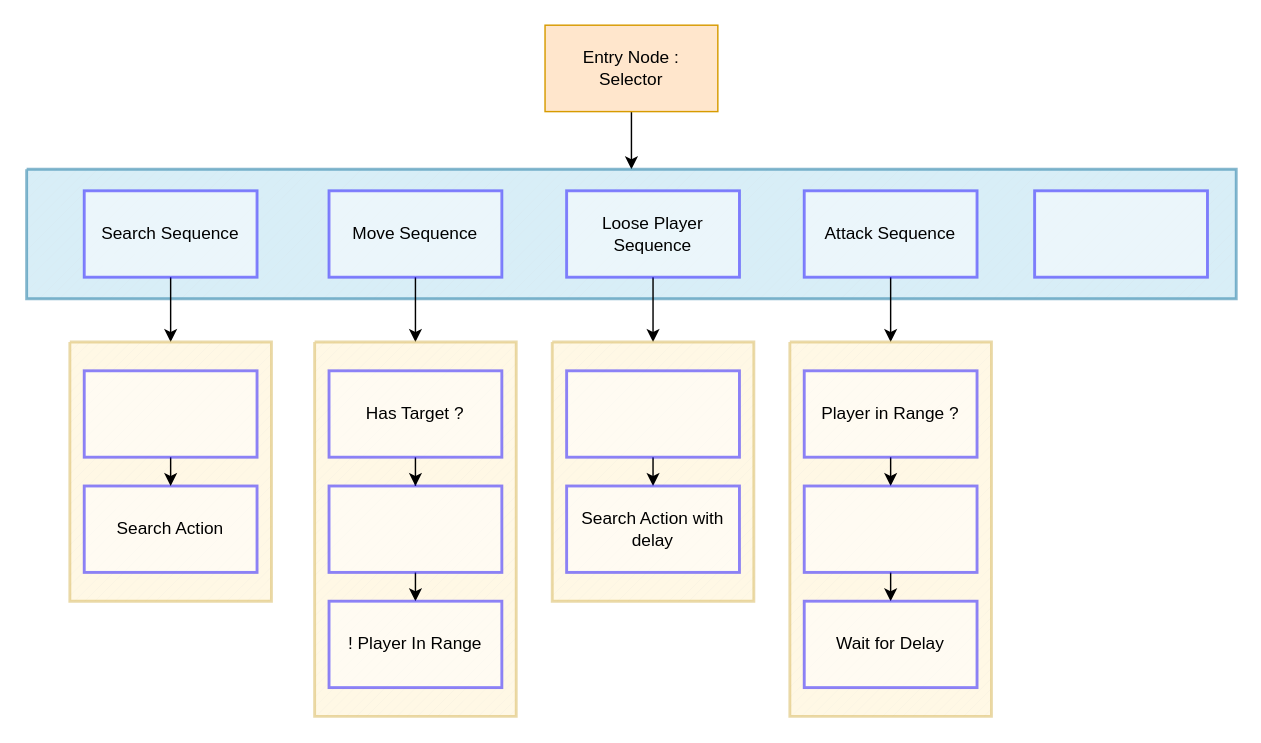
This 1261x743 diagram has some shape labels left out. Here are the shapes that lost their labels. From the top down, the box of each, then its label:
(1032, 189, 1208, 278): Move to current Waypoint
(82, 369, 258, 458): ! Has Target ?
(564, 369, 740, 458): Has Loose Target ?
(327, 484, 503, 573): Move To Target
(802, 484, 978, 573): Attack Action
